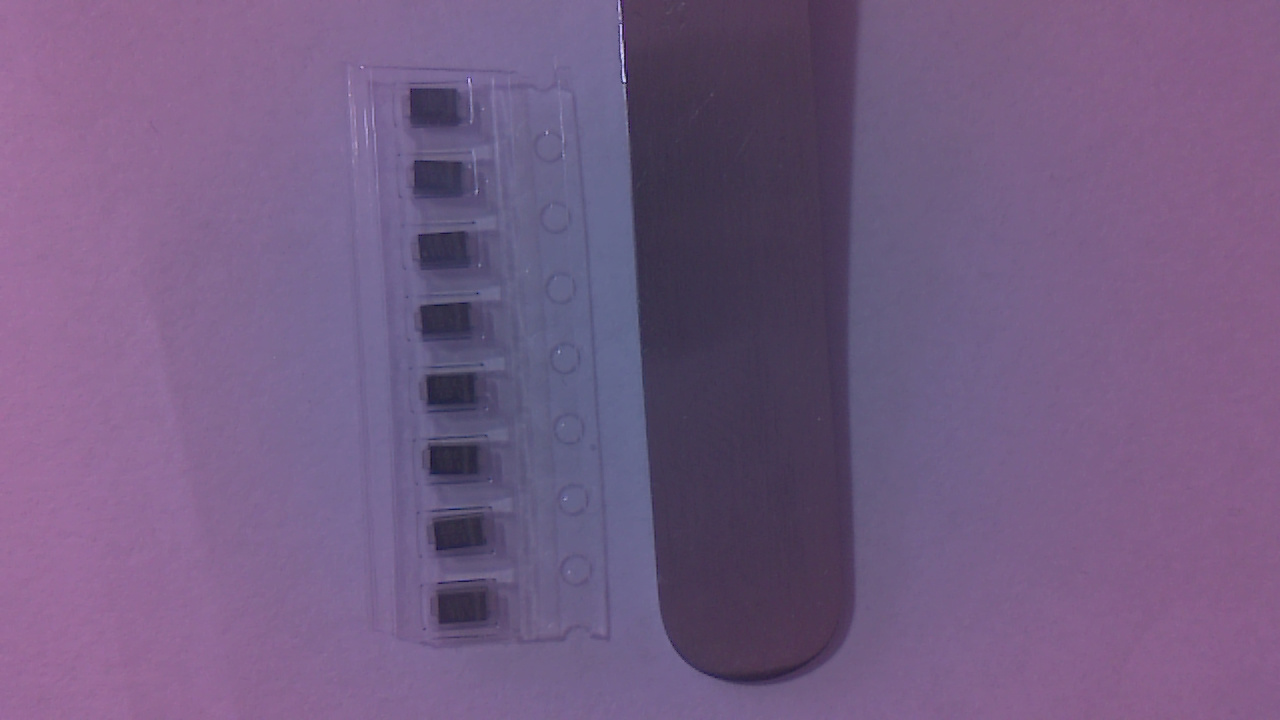Diode: (400, 88, 478, 135), (412, 235, 484, 281), (407, 162, 483, 205), (433, 590, 504, 633), (429, 515, 500, 557), (419, 303, 486, 345), (423, 376, 490, 416), (425, 445, 495, 482)
